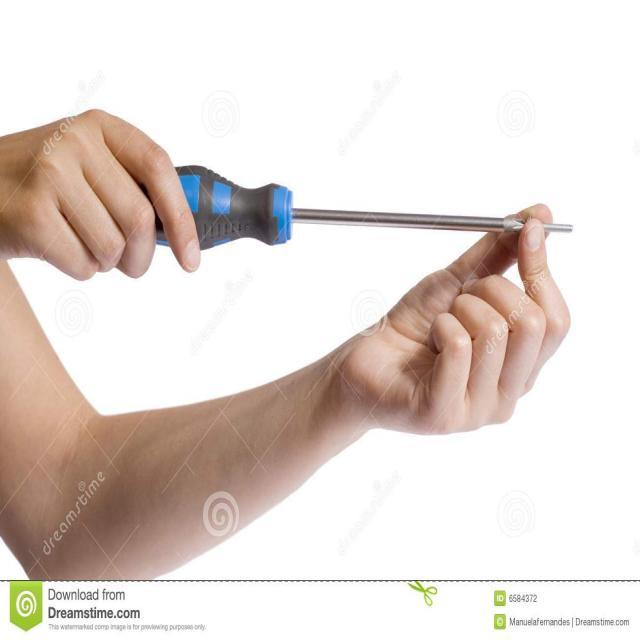screwdriver: (150, 160, 577, 261)
